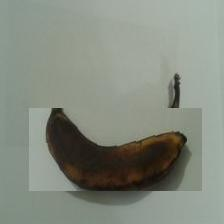Banana Rotten: (29, 108, 202, 191)
